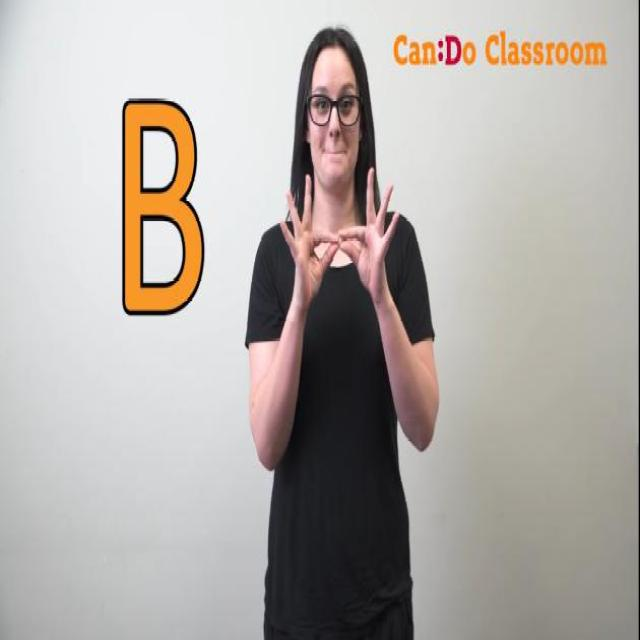B: (279, 166, 405, 305)
